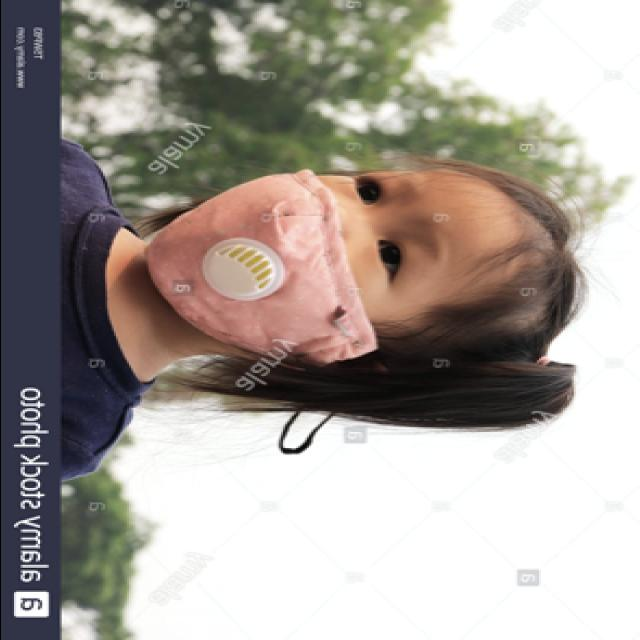mask: (141, 168, 451, 365)
